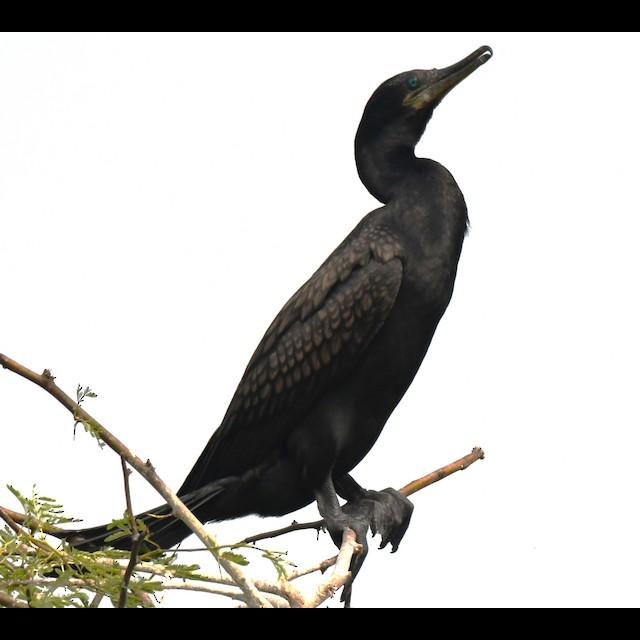cormorant: (160, 43, 492, 555)
